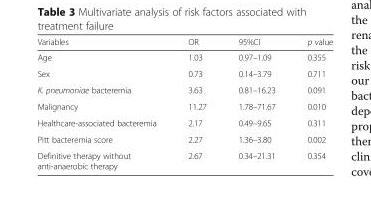table: (36, 36, 332, 170)
table column: (36, 36, 171, 170), (221, 36, 290, 170), (171, 36, 221, 170), (290, 36, 332, 170)
table column header: (36, 36, 332, 49)
table row: (36, 147, 332, 170), (36, 64, 332, 81), (36, 97, 332, 114), (36, 130, 332, 147), (36, 81, 332, 97), (36, 114, 332, 130), (36, 49, 332, 64), (36, 36, 332, 49)
